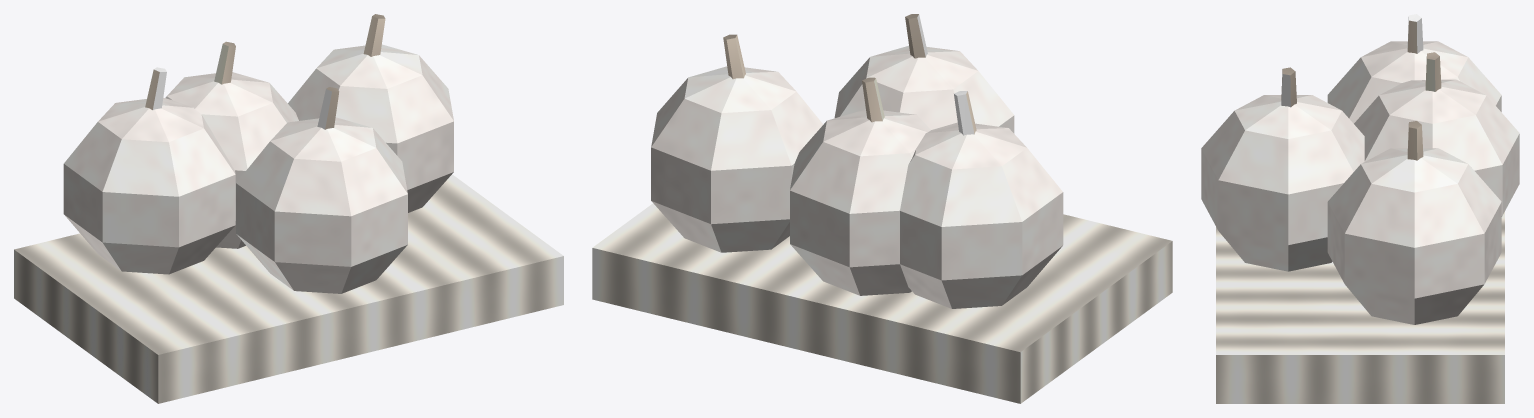
File: p_mela.obj
3 views of the same model, side by side, from view 1: azimuth 30°, elevation 25°; view 2: azimuth 150°, elevation 25°; view 3: azimuth 270°, elevation 25° (orthographic). The views are drawn at different scales.
Visible parts, largest first — view 1: cartone_000, pelle_001, pelle_003, corteccia_002; view 2: pelle_001, cartone_000, pelle_003, corteccia_002; view 3: pelle_001, cartone_000, pelle_003, corteccia_002.
Part boxes in pixels (x1,y1,x2,y2): cartone_000: (14,174,563,403); pelle_001: (63,44,453,274); pelle_003: (236,117,407,293); corteccia_002: (145,14,385,129); pelle_001: (651,66,1063,308); cartone_000: (592,203,1172,403); pelle_003: (834,45,1014,133); corteccia_002: (723,14,976,135); pelle_001: (1327,41,1519,324); cartone_000: (1216,212,1504,403); pelle_003: (1201,95,1364,271); corteccia_002: (1281,14,1441,160).
Bounding box in the file's own units: 0.26 × 0.1457 × 0.1764.
Materials: 4 (4 with a texture image).
